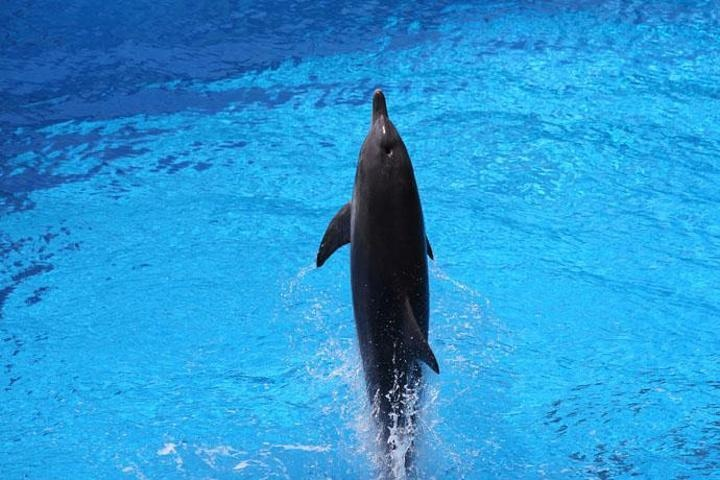fish: (315, 88, 441, 480)
